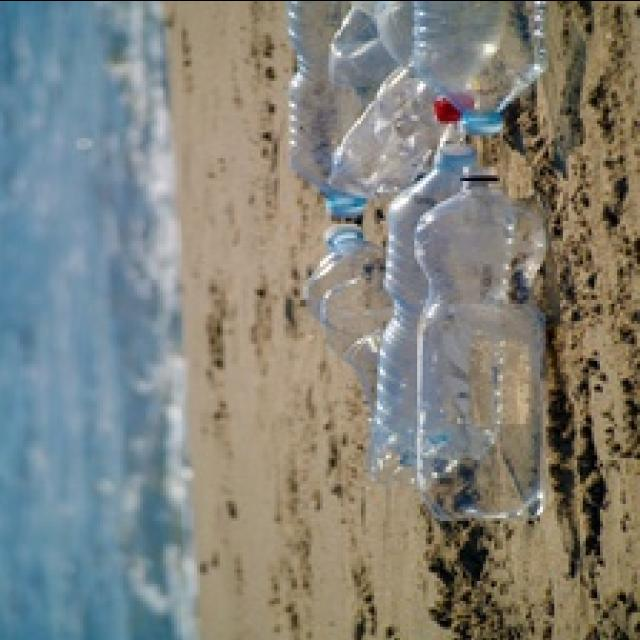寶特瓶: (282, 0, 574, 523), (276, 498, 280, 503)
